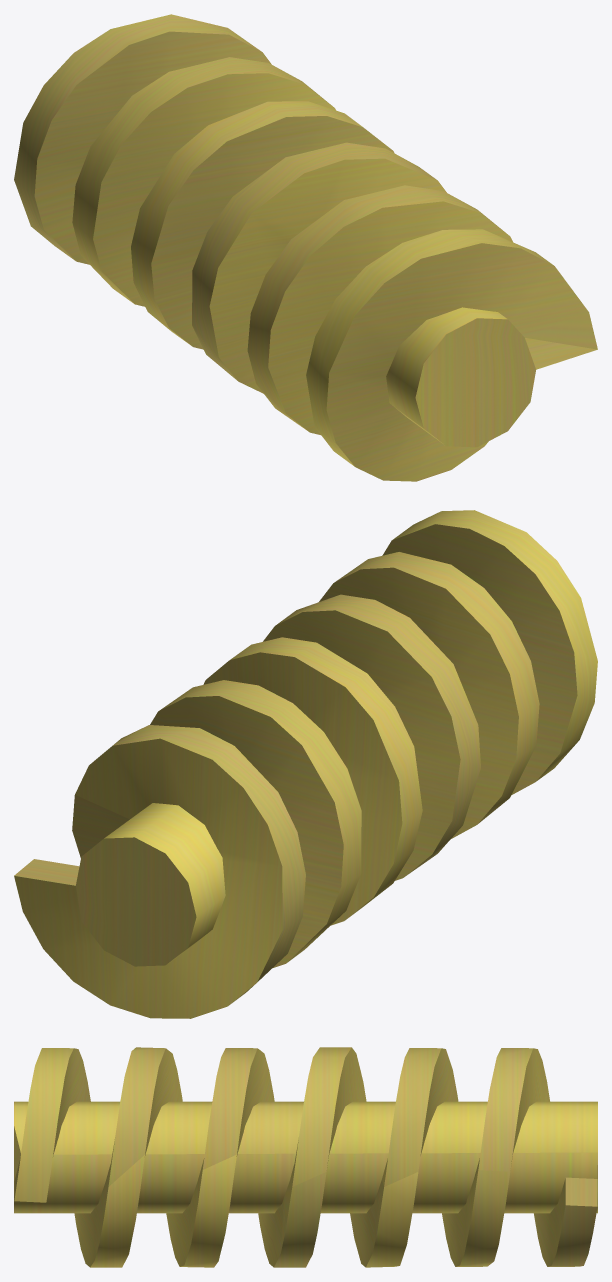
The model's file is WormGear2.fbx.
The picture shows the model from 3 angles, top to bottom: view 1: azimuth 30°, elevation 25°; view 2: azimuth 150°, elevation 25°; view 3: azimuth 270°, elevation 25°; orthographic projection. The views are drawn at different scales.
Parts seen in each view (by area): view 1: WormGear2; view 2: WormGear2; view 3: WormGear2.
Boxes of the visible parts, left/top/right/bottom form: WormGear2: left=14, top=14, right=597, bottom=481; WormGear2: left=14, top=510, right=597, bottom=1018; WormGear2: left=14, top=1047, right=597, bottom=1267.
Bounding box in the file's own units: 52.93 × 52.93 × 140.
